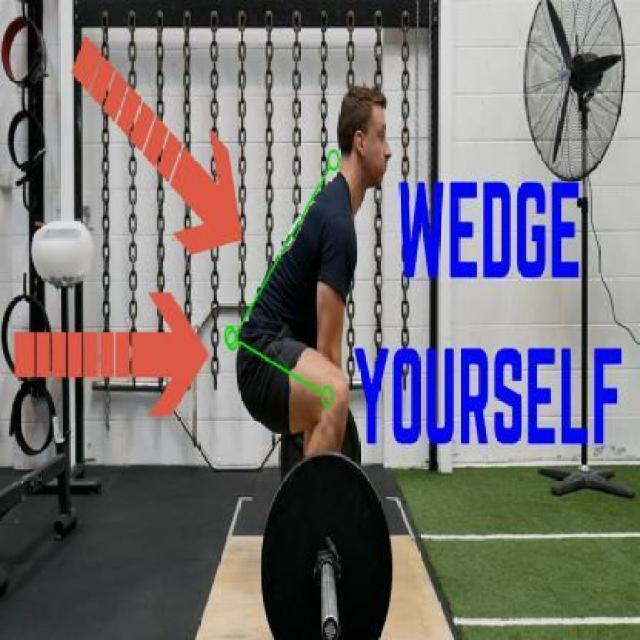barbell: (256, 444, 397, 640)
